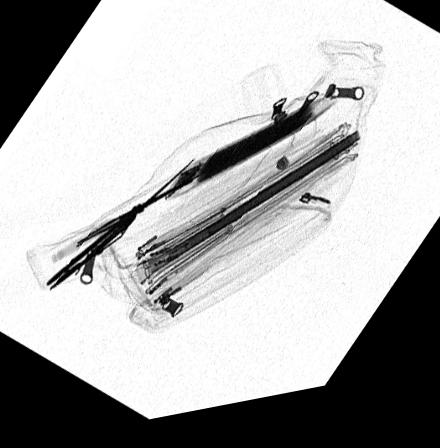Knife: (44, 163, 196, 294)
Powerbank: (164, 102, 339, 208)
Scissors: (47, 163, 202, 271)
